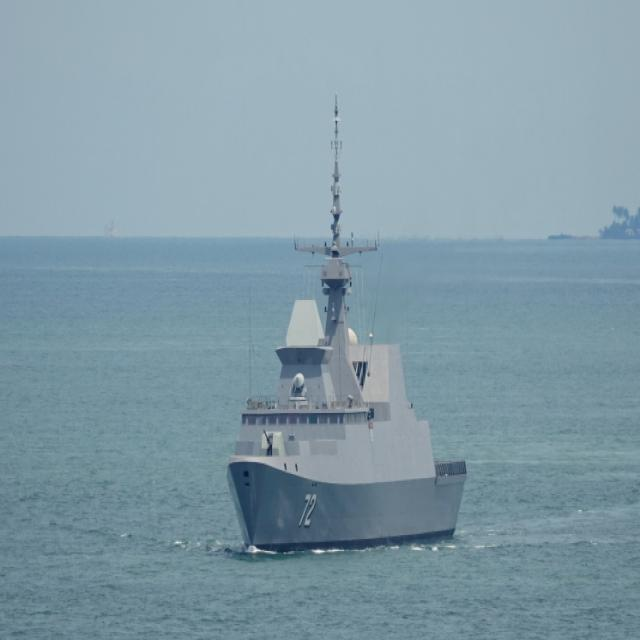Fragata: (223, 95, 469, 559)
